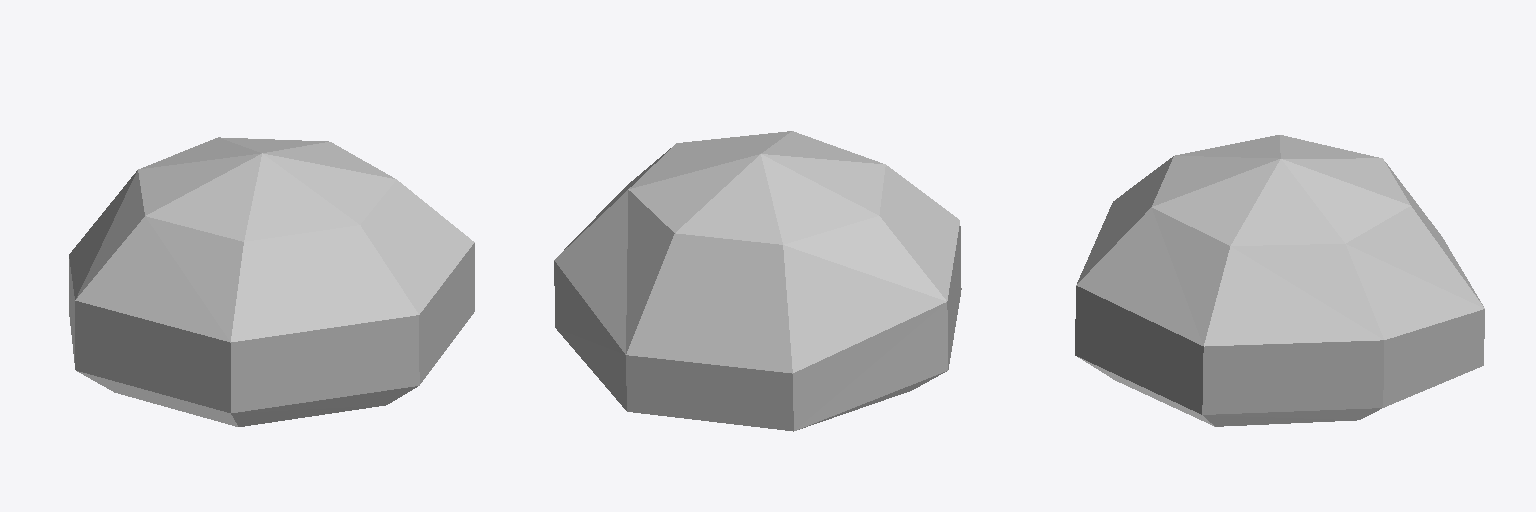
The model's file is bush_B.obj.
The picture shows the model from 3 angles: view 1: azimuth 30°, elevation 25°; view 2: azimuth 150°, elevation 25°; view 3: azimuth 270°, elevation 25°; orthographic projection.
Parts seen in each view (by area): view 1: bush_B_Cube.14216; view 2: bush_B_Cube.14216; view 3: bush_B_Cube.14216.
Boxes of the visible parts, x1=… form: bush_B_Cube.14216: x1=69, y1=137, x2=474, y2=426; bush_B_Cube.14216: x1=554, y1=131, x2=961, y2=431; bush_B_Cube.14216: x1=1075, y1=135, x2=1484, y2=426.
Bounding box in the file's own units: 0.6785 × 0.3617 × 0.6678.